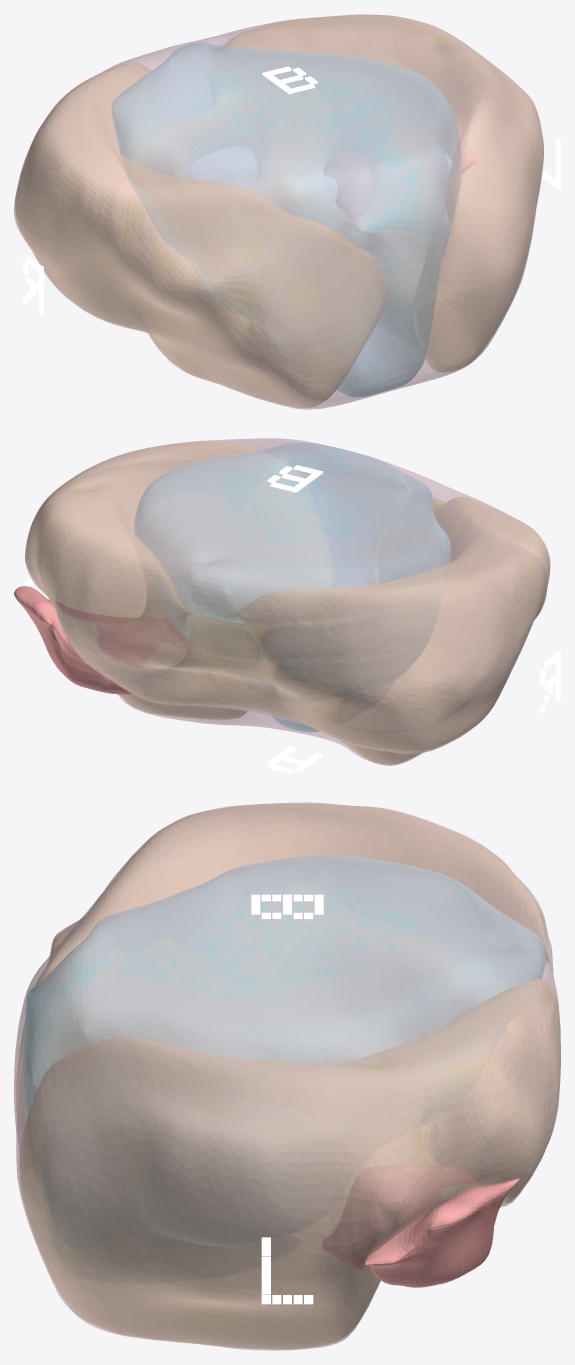
3 renders of one model, top to bottom at view 1: azimuth 30°, elevation 25°; view 2: azimuth 150°, elevation 25°; view 3: azimuth 270°, elevation 25°, orthographic. The views are drawn at different scales.
Visible parts, largest first — view 1: prostate_gland, peripheral_zone, transition_zone, lesion_01, pv_ar_marker_B, pv_ar_marker_R; view 2: prostate_gland, peripheral_zone, transition_zone, lesion_01, pv_ar_marker_B, pv_ar_marker_R, pv_ar_marker_A; view 3: prostate_gland, peripheral_zone, transition_zone, lesion_01, pv_ar_marker_B, pv_ar_marker_L.
Part boxes in pixels (<box>): prostate_gland: <box>14,14,543,409</box>; peripheral_zone: <box>15,15,543,407</box>; transition_zone: <box>112,43,461,397</box>; lesion_01: <box>324,152,476,221</box>; pv_ar_marker_B: <box>262,66,317,94</box>; pv_ar_marker_R: <box>23,256,43,315</box>; prostate_gland: <box>25,438,550,765</box>; peripheral_zone: <box>25,442,549,764</box>; transition_zone: <box>134,442,450,731</box>; lesion_01: <box>14,586,187,694</box>; pv_ar_marker_B: <box>267,465,322,492</box>; pv_ar_marker_R: <box>540,651,560,713</box>; pv_ar_marker_A: <box>267,746,322,773</box>; prostate_gland: <box>14,802,560,1350</box>; peripheral_zone: <box>16,804,560,1349</box>; transition_zone: <box>23,854,544,1246</box>; lesion_01: <box>323,1165,519,1287</box>; pv_ar_marker_B: <box>251,894,323,918</box>; pv_ar_marker_L: <box>261,1237,313,1304</box>.
Bounding box in the file's own units: 0.0567 × 0.0299 × 0.0382.
